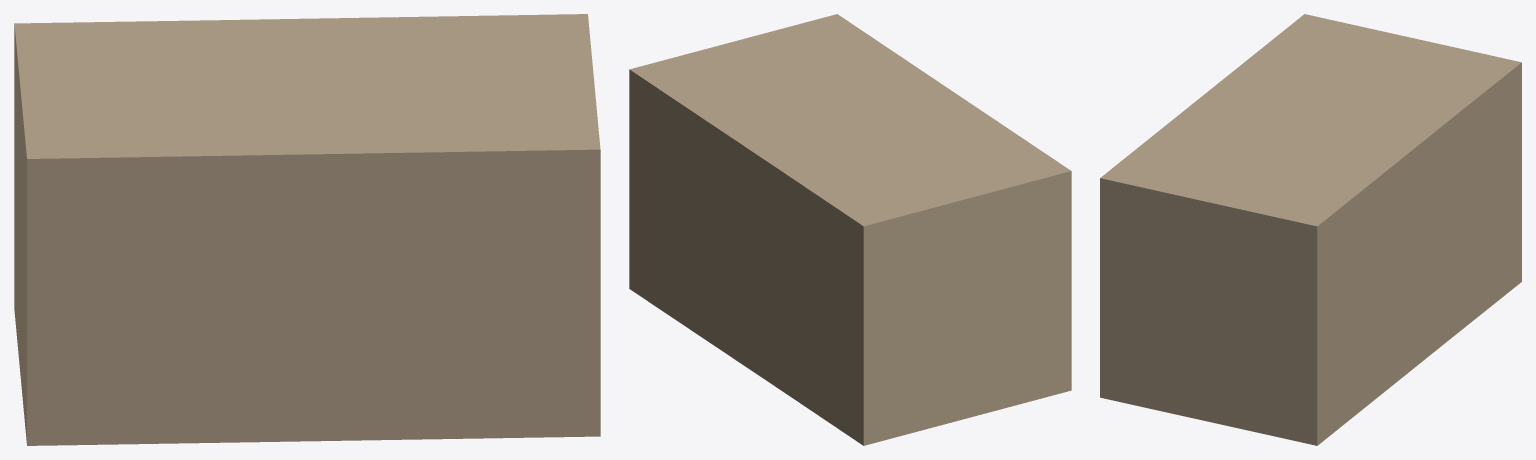
The model's file is bld_101374752.dae.
3 renders of one model, left to right at view 1: azimuth 30°, elevation 25°; view 2: azimuth 150°, elevation 25°; view 3: azimuth 270°, elevation 25°, orthographic. The views are drawn at different scales.
Visible parts, largest first — view 1: bld_101374752; view 2: bld_101374752; view 3: bld_101374752.
Part boxes in pixels (x1,y1,x2,y2): bld_101374752: (14,14,600,445); bld_101374752: (629,14,1071,445); bld_101374752: (1100,14,1521,445).
Size of the model in its own units: 16.61 by 13.94 by 8.
